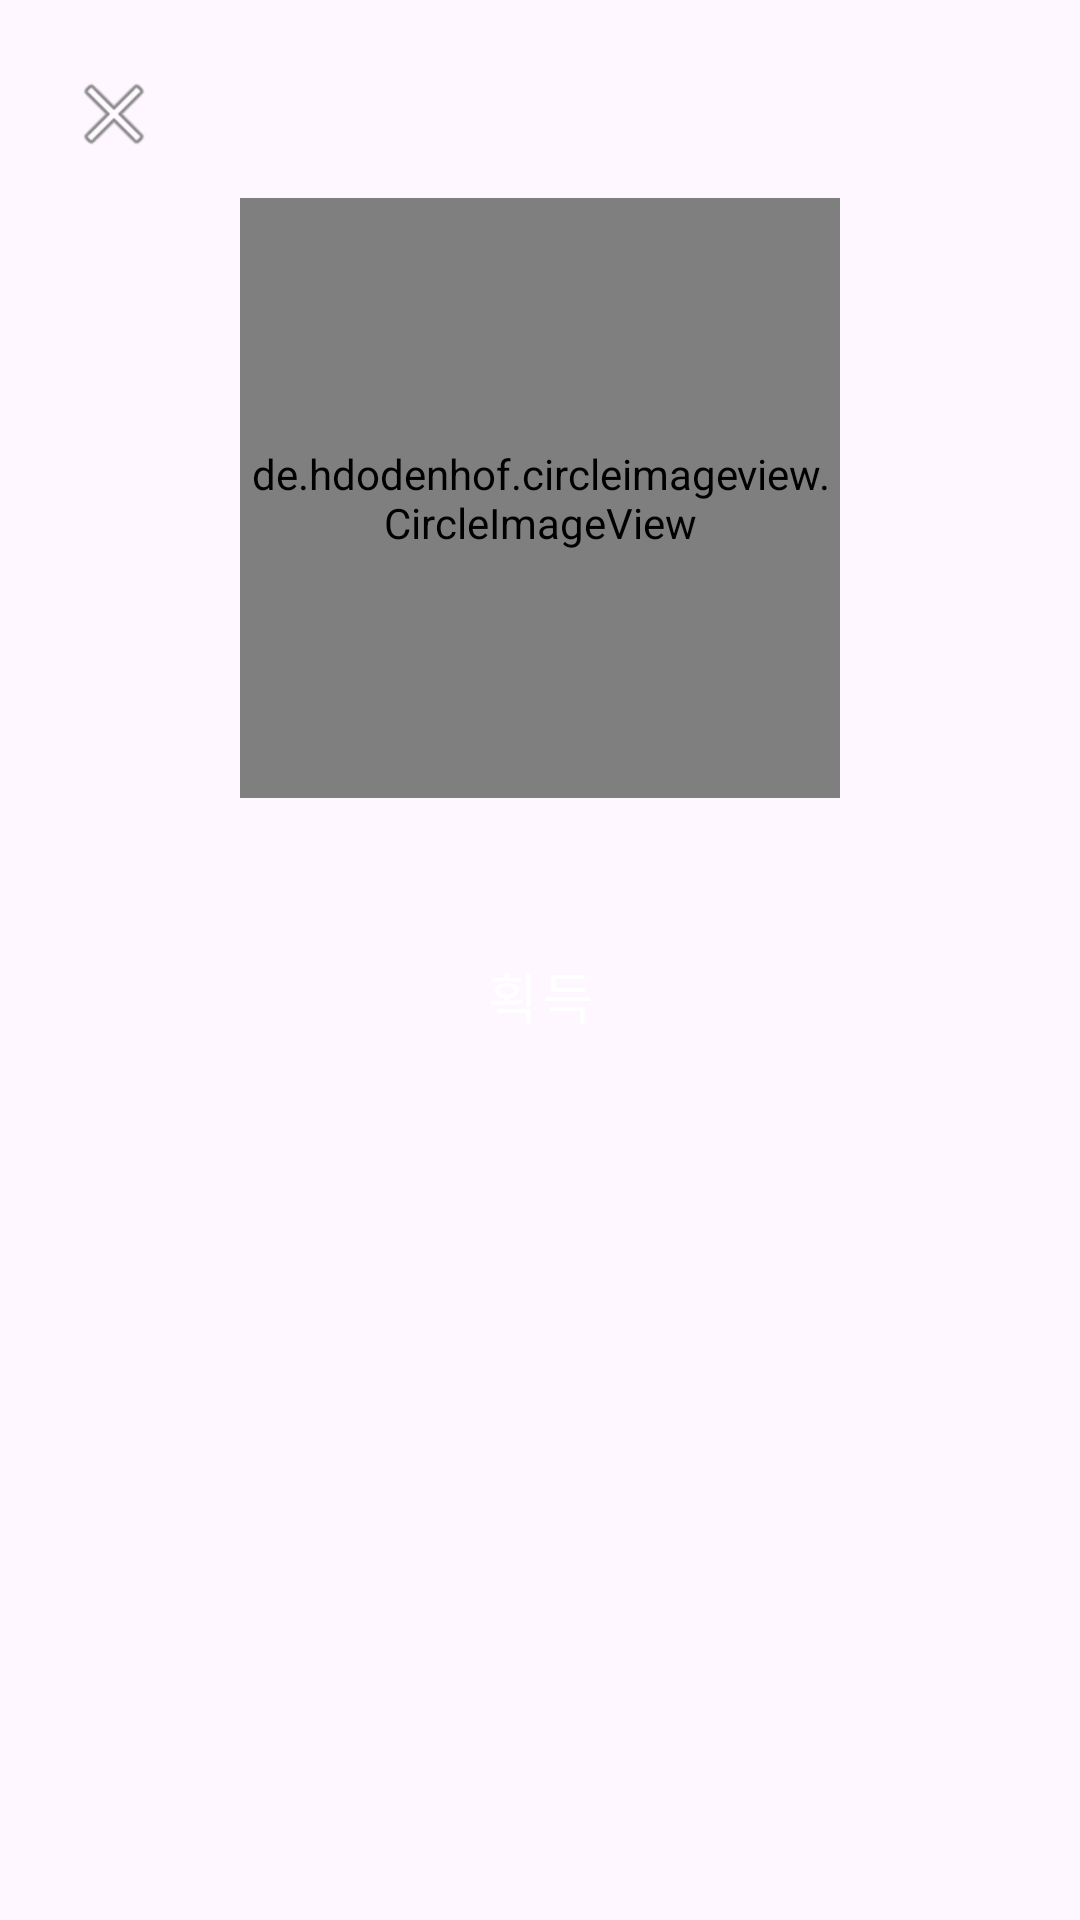

Icon click points for this 1080 × 1920 phone screenshot, format (x=x, y=y):
close clear cancel: (x=114, y=114)
